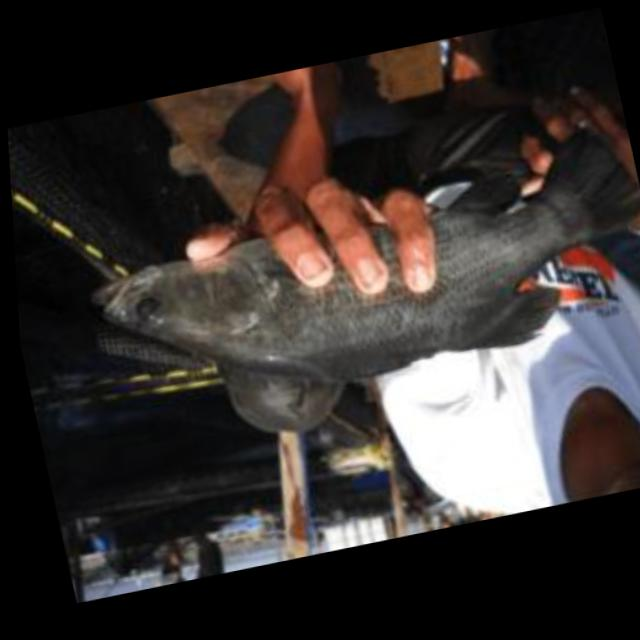Seabass: (66, 118, 640, 436)
